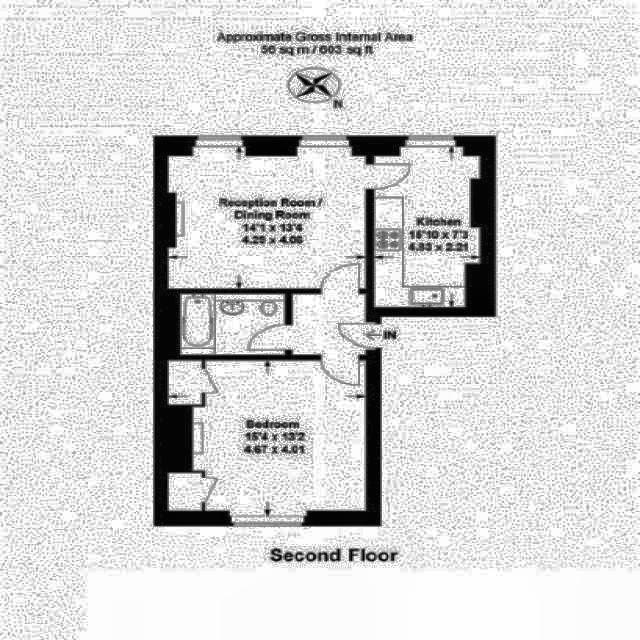room: (168, 361, 365, 512), (169, 156, 365, 288), (376, 156, 479, 307), (182, 293, 284, 355), (292, 295, 365, 354)
